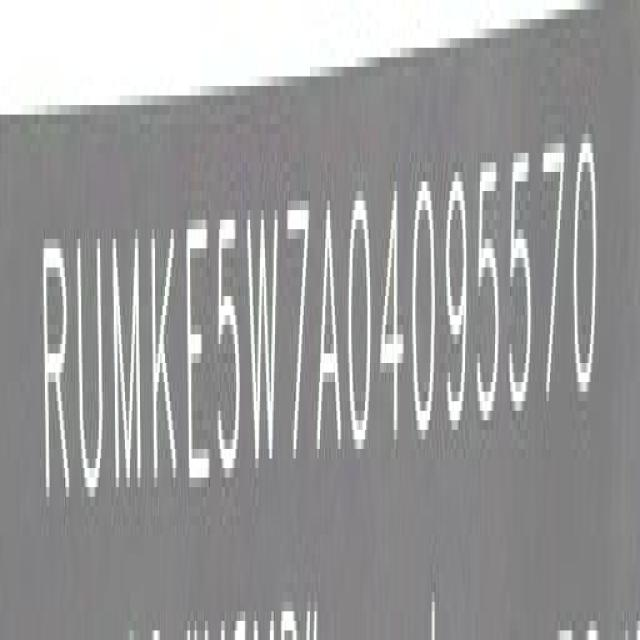0: (412, 176, 438, 447), (346, 190, 372, 458), (574, 128, 598, 410)
4: (380, 175, 404, 450)
5: (214, 207, 240, 484), (510, 152, 534, 426), (477, 153, 501, 426)
7: (288, 197, 313, 478), (543, 140, 568, 419)
9: (446, 170, 472, 438)
A: (316, 195, 343, 466)
E: (186, 219, 211, 496)
K: (148, 218, 178, 498)
M: (110, 234, 143, 498)
R: (44, 241, 73, 513)
U: (78, 235, 108, 502)
W: (246, 203, 280, 483)
